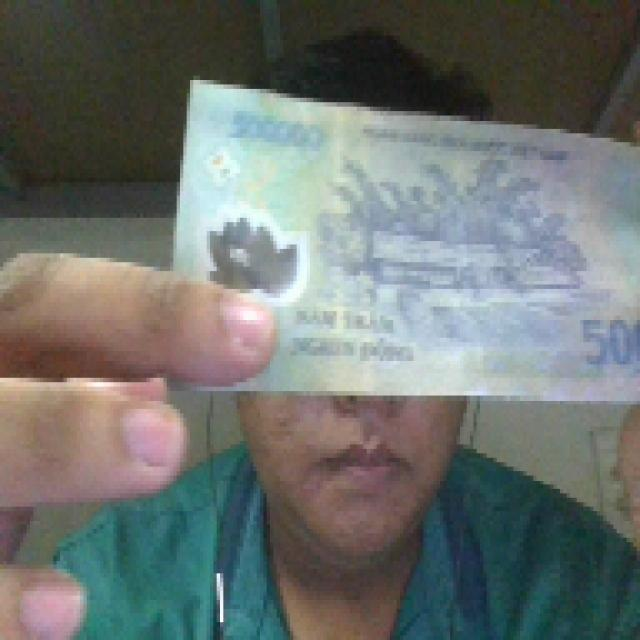500 000 VND: (166, 71, 636, 409)
